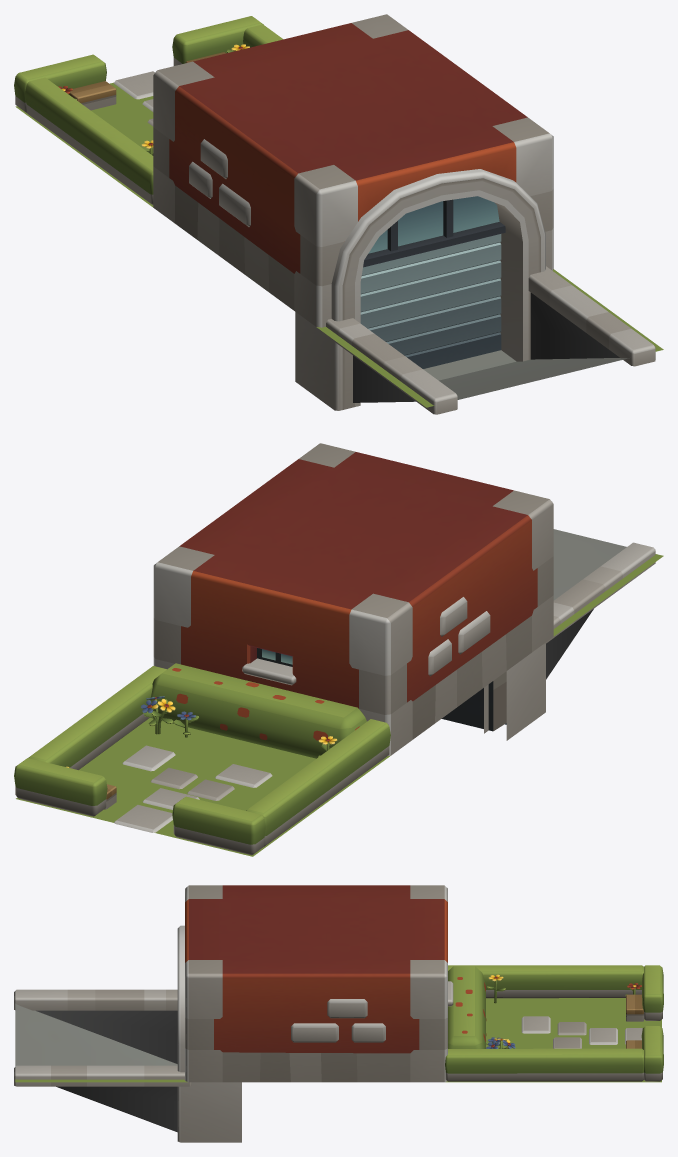
Rendered from garage_ground_red.fbx.
The picture shows the model from 3 angles, top to bottom: view 1: azimuth 30°, elevation 25°; view 2: azimuth 150°, elevation 25°; view 3: azimuth 270°, elevation 25°; orthographic projection. The views are drawn at different scales.
Visible parts, largest first — view 1: garage_ground_red, door_garage; view 2: garage_ground_red; view 3: garage_ground_red.
Boxes of the visible parts, x1,y1,x2,y2 form: garage_ground_red: [14, 14, 663, 414]; door_garage: [360, 234, 501, 368]; garage_ground_red: [14, 443, 663, 856]; garage_ground_red: [14, 885, 663, 1142].
Bounding box in the file's own units: 619 × 533 × 1809.
